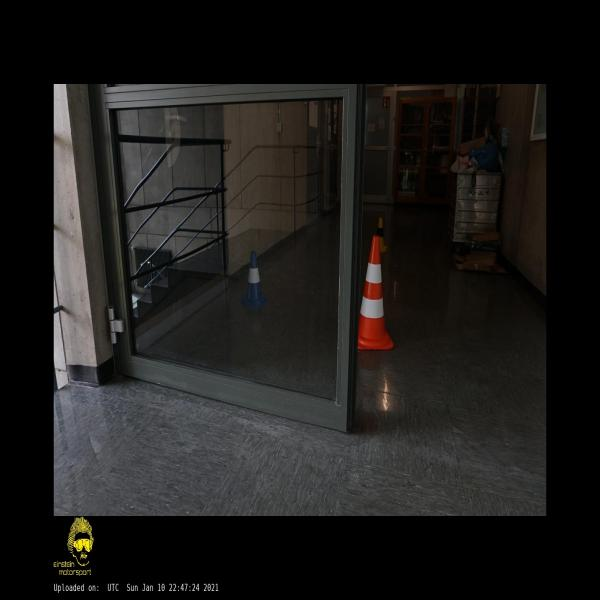blue_cone: (243, 250, 268, 310)
large_orange_cone: (358, 236, 395, 350)
yellow_cone: (378, 217, 388, 253)
